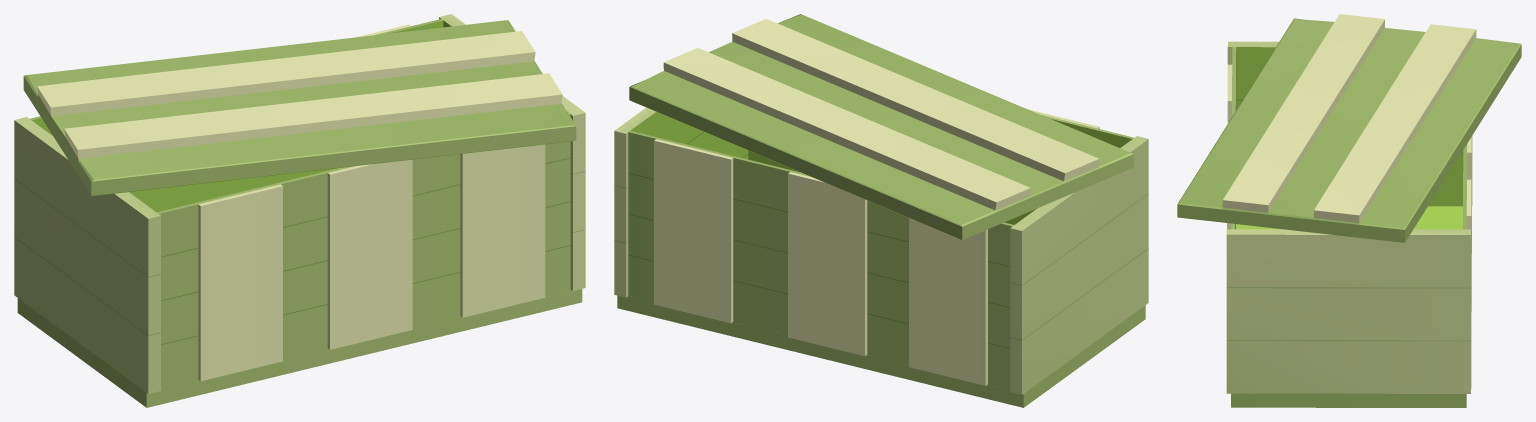
File: Med Colored Crate #1.fbx
The picture shows the model from 3 angles, left to right: view 1: azimuth 30°, elevation 25°; view 2: azimuth 150°, elevation 25°; view 3: azimuth 270°, elevation 25°; orthographic projection. The views are drawn at different scales.
Parts seen in each view (by area): view 1: Med Colored Crate #1; view 2: Med Colored Crate #1; view 3: Med Colored Crate #1.
Boxes of the visible parts, bbox=[...] form: Med Colored Crate #1: bbox=[14, 14, 585, 407]; Med Colored Crate #1: bbox=[614, 14, 1148, 407]; Med Colored Crate #1: bbox=[1177, 14, 1521, 407].
Bounding box in the file's own units: 197 × 312 × 454.
Materials: 1 (1 with a texture image).
